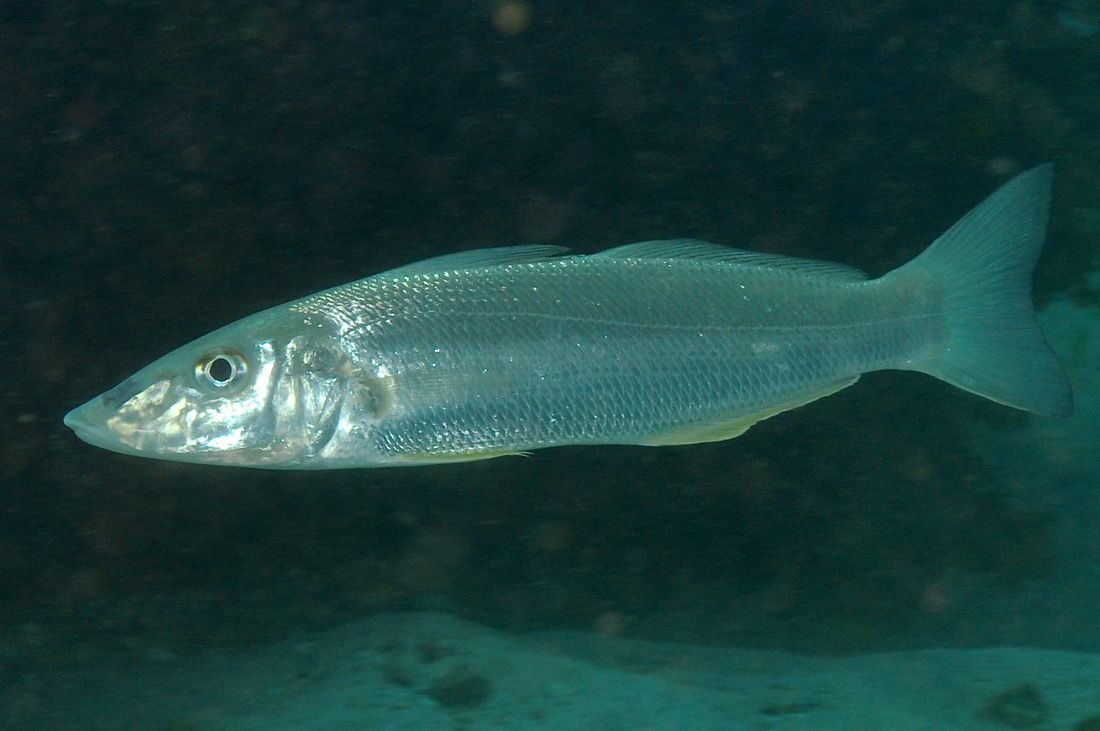kiss: (62, 218, 1069, 478)
